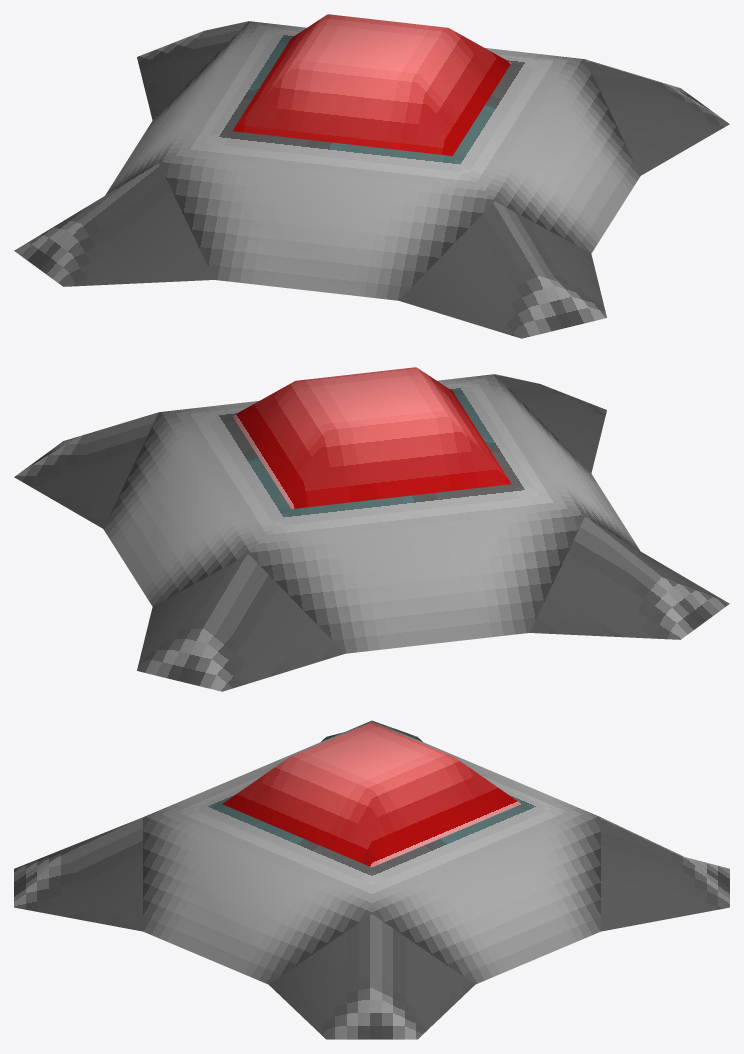
The model's file is mine.FBX.
3 renders of one model, top to bottom at view 1: azimuth 30°, elevation 25°; view 2: azimuth 150°, elevation 25°; view 3: azimuth 270°, elevation 25°, orthographic. The views are drawn at different scales.
Visible parts, largest first — view 1: Cylinder001; view 2: Cylinder001; view 3: Cylinder001.
Boxes of the visible parts, <box> form: Cylinder001: <box>14,14,729,338</box>; Cylinder001: <box>14,367,729,691</box>; Cylinder001: <box>14,720,729,1039</box>.
Bounding box in the file's own units: 77.25 × 15.61 × 77.25.
